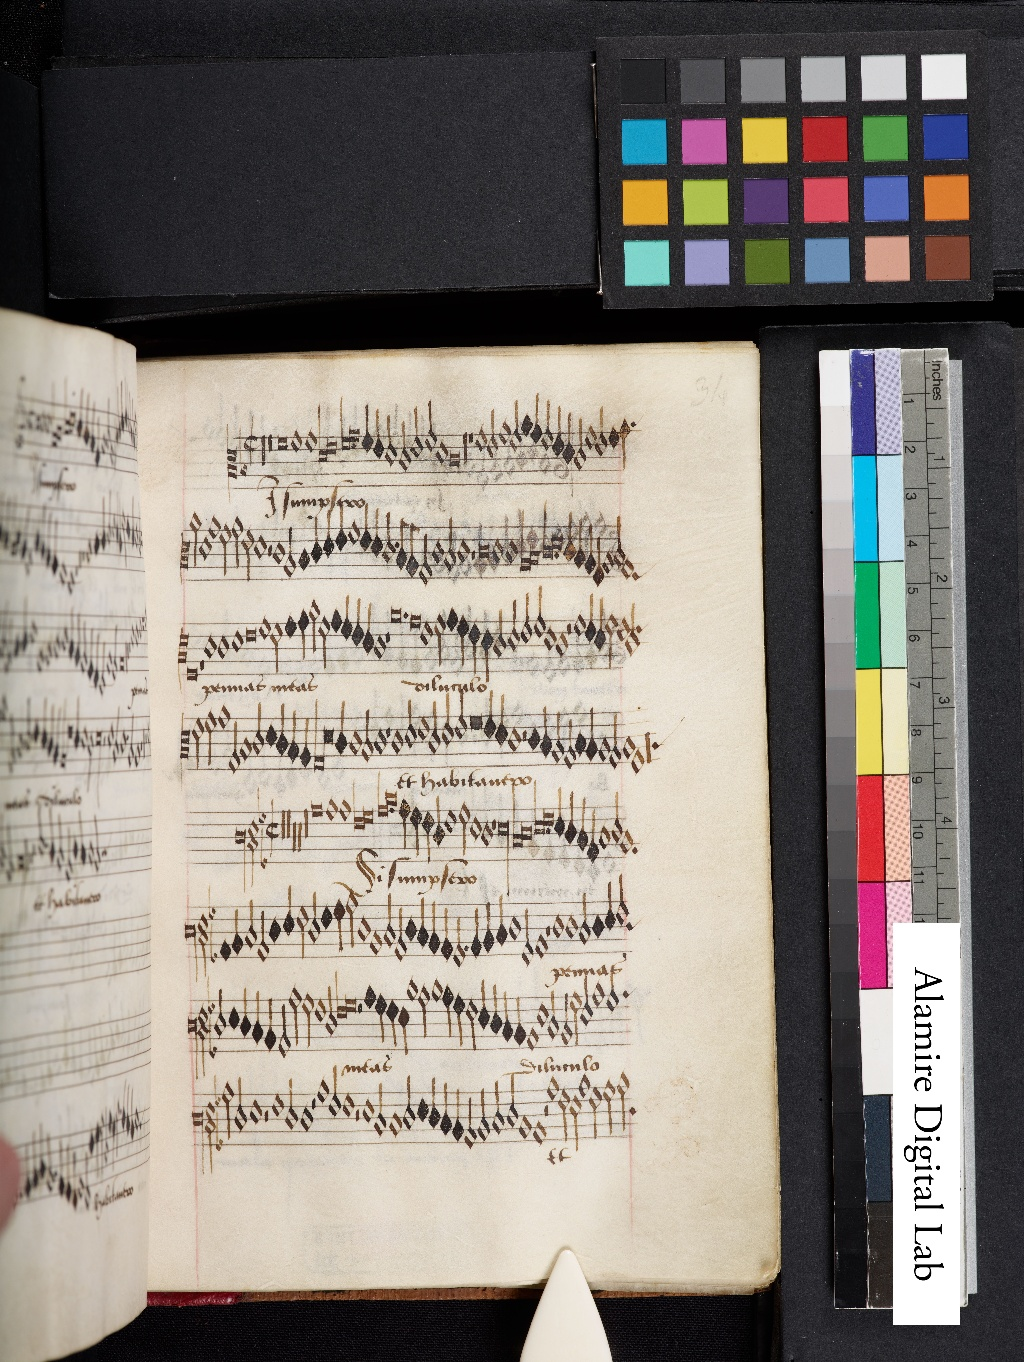colored semibreve_6: (414, 1089, 430, 1127)
custos_7: (626, 1104, 642, 1121)
f clef_7: (184, 1087, 217, 1165)
flat_11: (210, 1117, 225, 1157)
flat_4: (207, 1072, 222, 1110)
minim rest: (350, 1082, 362, 1152), (260, 1080, 272, 1152), (309, 1078, 317, 1143), (541, 1083, 550, 1141)
minim_10: (463, 1090, 477, 1155)
minim_3: (616, 1066, 630, 1151), (221, 1077, 234, 1143)
minim_4: (600, 1080, 616, 1138)
minim_5: (325, 1062, 342, 1124), (557, 1084, 572, 1147), (587, 1086, 602, 1140)
minim_6: (567, 1091, 582, 1159)
minim_7: (282, 1072, 299, 1137), (400, 1070, 417, 1135), (232, 1072, 248, 1139), (504, 1067, 520, 1132)
minim_8: (370, 1077, 389, 1143), (489, 1075, 507, 1141)
minim_9: (474, 1082, 492, 1147)
semibreve_10: (530, 1112, 550, 1152)
semibreve_3: (545, 1069, 560, 1105), (572, 1072, 591, 1095), (317, 1072, 330, 1105)
semibreve_5: (339, 1086, 355, 1122), (269, 1086, 285, 1120)
semibreve_6: (247, 1090, 265, 1132), (359, 1090, 375, 1127)
semibreve_7: (295, 1106, 310, 1141)
semibreve_8: (385, 1104, 404, 1145)
semibreve_9: (515, 1107, 532, 1145)
semiminim_7: (425, 1072, 440, 1135)
semiminim_8: (439, 1075, 454, 1140)
semiminim_9: (450, 1082, 465, 1147)
